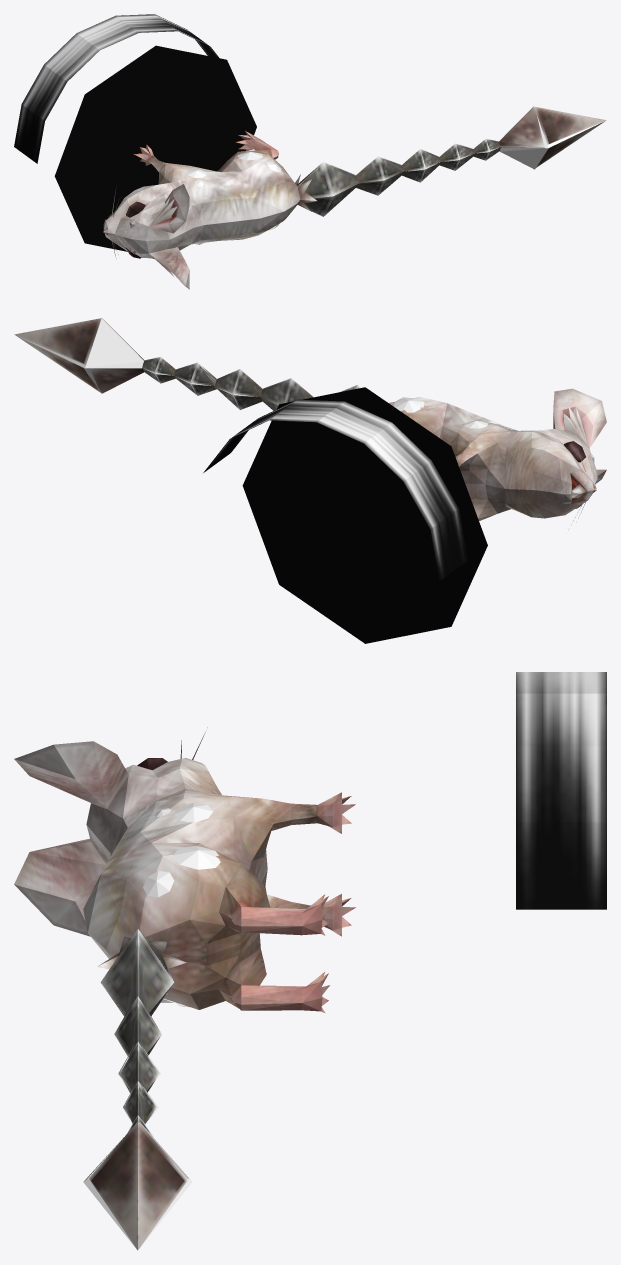
3 renders of one model, top to bottom at view 1: azimuth 30°, elevation 25°; view 2: azimuth 150°, elevation 25°; view 3: azimuth 270°, elevation 25°, orthographic. The views are drawn at different scales.
Visible parts, largest first — view 1: M_0007_0, M_0007_1; view 2: M_0007_0, M_0007_1; view 3: M_0007_0, M_0007_1.
Boxes of the visible parts, left/top/right/bottom form: M_0007_0: left=54, top=45, right=606, bottom=289; M_0007_1: left=14, top=14, right=548, bottom=178; M_0007_0: left=14, top=318, right=606, bottom=643; M_0007_1: left=85, top=318, right=467, bottom=580; M_0007_0: left=14, top=727, right=355, bottom=1250; M_0007_1: left=83, top=672, right=606, bottom=1181.
Bounding box in the file's own units: 4.36 × 1.8 × 2.34.
2 materials, 2 textured.
